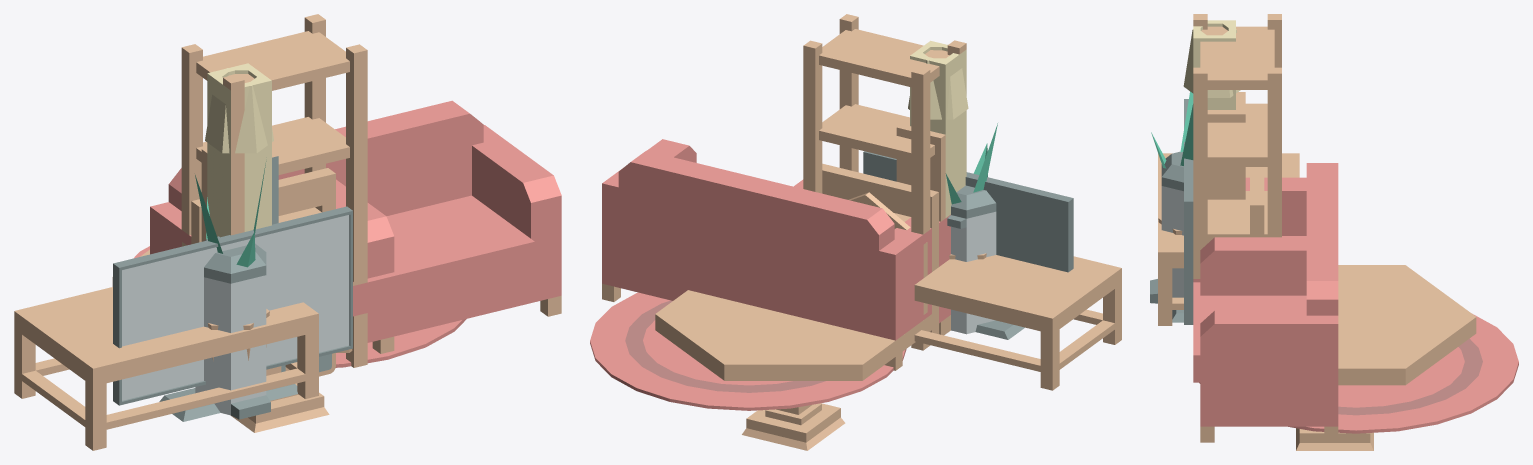
The model's file is kenney-furniture.glb.
3 views of the same model, side by side, from view 1: azimuth 30°, elevation 25°; view 2: azimuth 150°, elevation 25°; view 3: azimuth 270°, elevation 25° (orthographic). The views are drawn at different scales.
Parts seen in each view (by area): view 1: loungeSofa(Clone), televisionModern(Clone), tableCoffee(Clone), bookcaseOpen(Clone), trashcan(Clone), lampSquareFloor(Clone), loungeChair(Clone), lampRoundFloor(Clone), bench(Clone), tableRound(Clone), rugRound(Clone), benchCushion(Clone) (+2 smaller); view 2: loungeSofa(Clone), loungeChair(Clone), tableRound(Clone), bookcaseOpen(Clone), tableCoffee(Clone), rugRound(Clone), televisionModern(Clone), trashcan(Clone), lampSquareFloor(Clone), speaker(Clone), bench(Clone), benchCushion(Clone) (+3 smaller); view 3: loungeSofa(Clone), bookcaseOpen(Clone), tableRound(Clone), rugRound(Clone), loungeChair(Clone), tableCoffee(Clone), trashcan(Clone), speaker(Clone), televisionModern(Clone), lampSquareFloor(Clone), lampRoundFloor(Clone), plant (+2 smaller).
Boxes of the visible parts, box(x1,y1,x2,y2) form: loungeSofa(Clone): box(172, 100, 561, 342); televisionModern(Clone): box(113, 206, 352, 421); tableCoffee(Clone): box(14, 287, 318, 450); bookcaseOpen(Clone): box(181, 14, 367, 281); trashcan(Clone): box(195, 236, 270, 419); lampSquareFloor(Clone): box(207, 63, 271, 237); loungeChair(Clone): box(150, 169, 394, 353); lampRoundFloor(Clone): box(205, 68, 273, 153); bench(Clone): box(191, 168, 367, 367); tableRound(Clone): box(112, 249, 352, 432); rugRound(Clone): box(133, 246, 466, 367); benchCushion(Clone): box(191, 191, 353, 367); loungeSofa(Clone): box(602, 139, 950, 370); loungeChair(Clone): box(749, 179, 950, 370); tableRound(Clone): box(655, 290, 931, 450); bookcaseOpen(Clone): box(803, 14, 966, 350); tableCoffee(Clone): box(914, 255, 1121, 390); rugRound(Clone): box(590, 292, 906, 410); televisionModern(Clone): box(863, 151, 1073, 339); trashcan(Clone): box(947, 185, 996, 334); lampSquareFloor(Clone): box(910, 40, 966, 217); speaker(Clone): box(896, 118, 950, 335); bench(Clone): box(822, 163, 931, 228); benchCushion(Clone): box(824, 183, 949, 334); loungeSofa(Clone): box(1193, 207, 1338, 442); bookcaseOpen(Clone): box(1193, 14, 1281, 278); tableRound(Clone): box(1296, 265, 1476, 450); rugRound(Clone): box(1199, 314, 1518, 433); loungeChair(Clone): box(1200, 163, 1338, 295); tableCoffee(Clone): box(1158, 153, 1299, 325); trashcan(Clone): box(1150, 151, 1183, 303); speaker(Clone): box(1207, 92, 1245, 199); televisionModern(Clone): box(1172, 99, 1193, 324); lampSquareFloor(Clone): box(1193, 20, 1235, 109); lampRoundFloor(Clone): box(1183, 21, 1240, 97); plant: box(1151, 91, 1193, 168).
Size of the model in its own units: 1.44 by 1.15 by 1.04.
